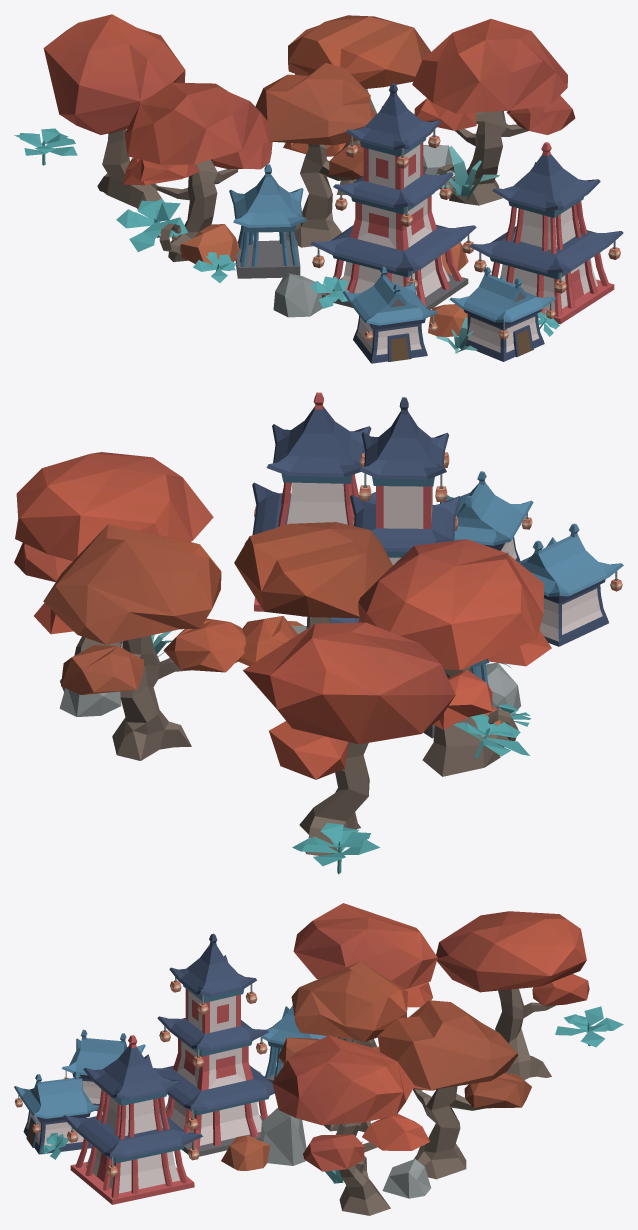
File: townBurning1.fbx
3 views of the same model, one above another, from view 1: azimuth 30°, elevation 25°; view 2: azimuth 150°, elevation 25°; view 3: azimuth 270°, elevation 25° (orthographic). The views are drawn at different scales.
Visible parts, largest first — view 1: townBurning1; view 2: townBurning1; view 3: townBurning1.
Boxes of the visible parts, box(x1,y1,x2,y2) form: townBurning1: box(14, 14, 623, 363); townBurning1: box(14, 392, 623, 874); townBurning1: box(14, 903, 623, 1215).
Size of the model in its own units: 6.43 by 3.09 by 8.51.
Materials: 1 (1 with a texture image).
